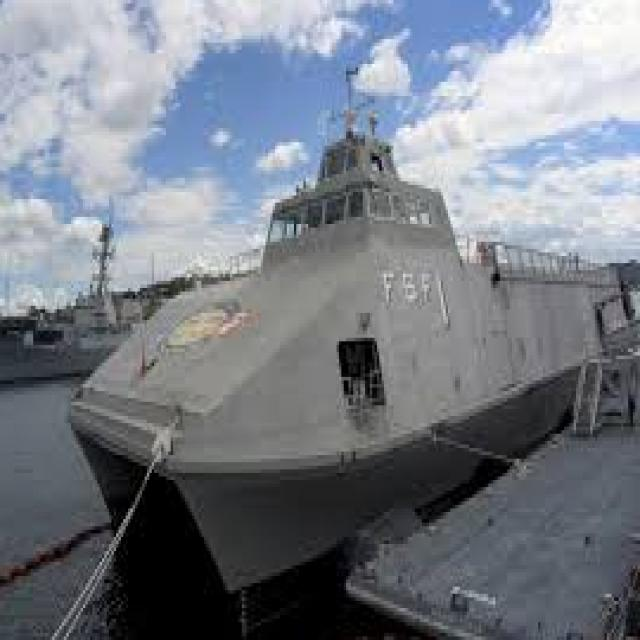navalvessels: (80, 122, 630, 578)
